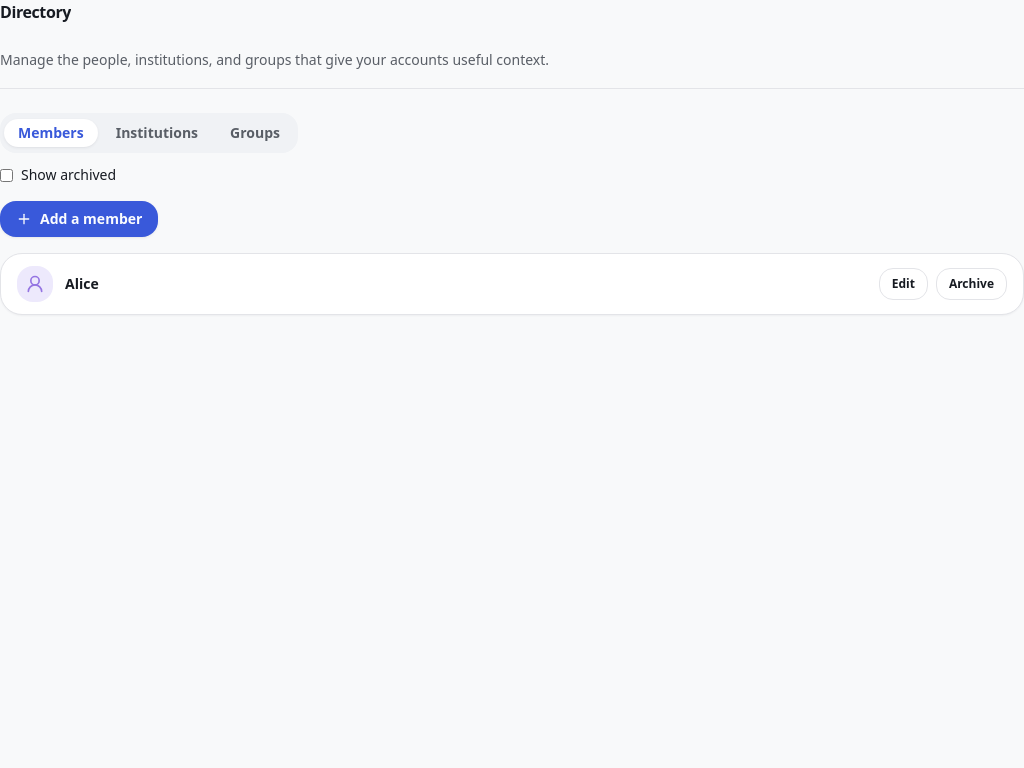
Test: DirectoryPage › focuses the default Name field in Groups and keeps Close keyboard accessible
Expected: the text "Alice" is shown, [65,274,99,294]
Click the tab "Groups" at coordinates (255, 133), box [216,119,294,147]
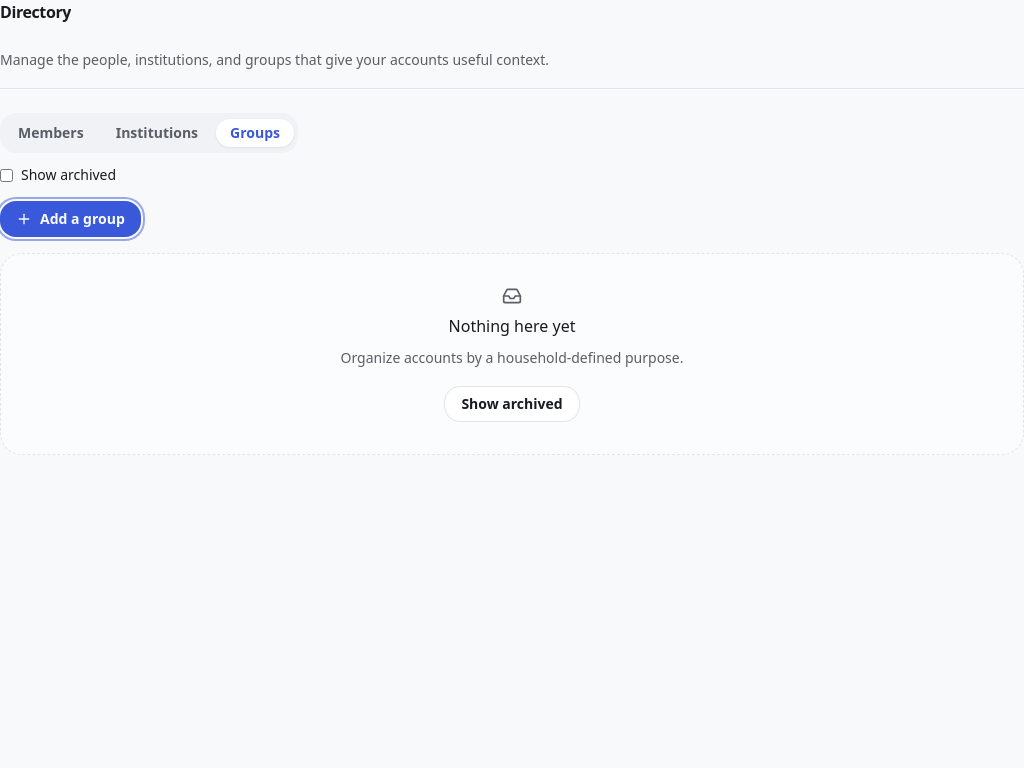
Press Enter
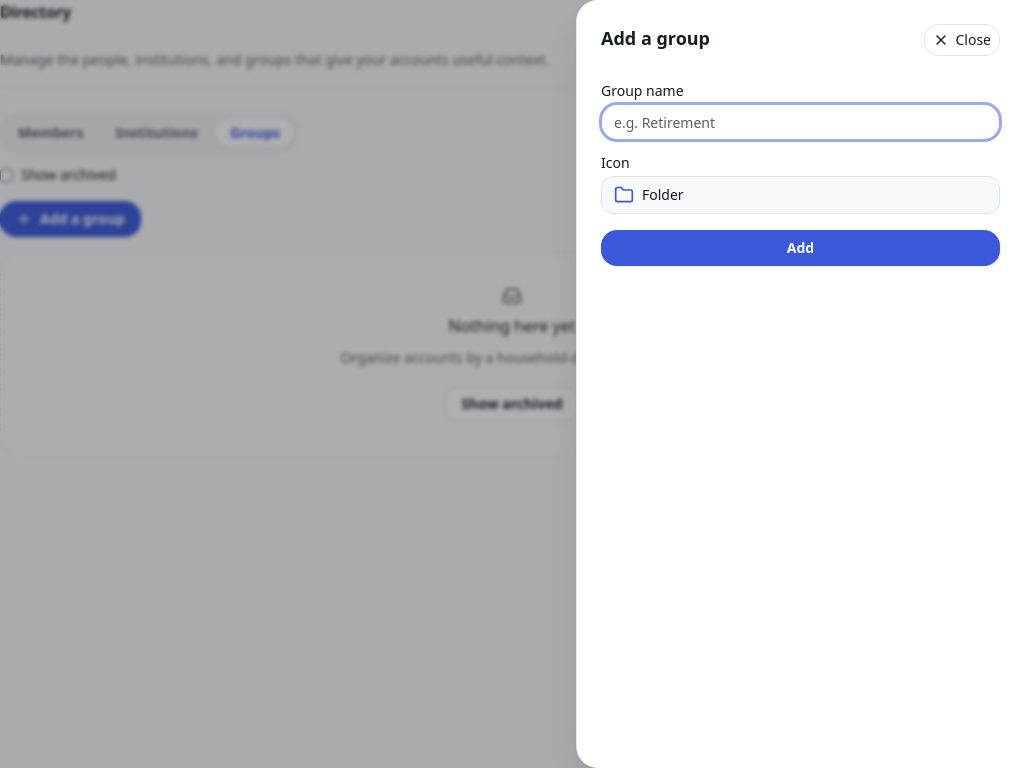
Type keys "Draft name"
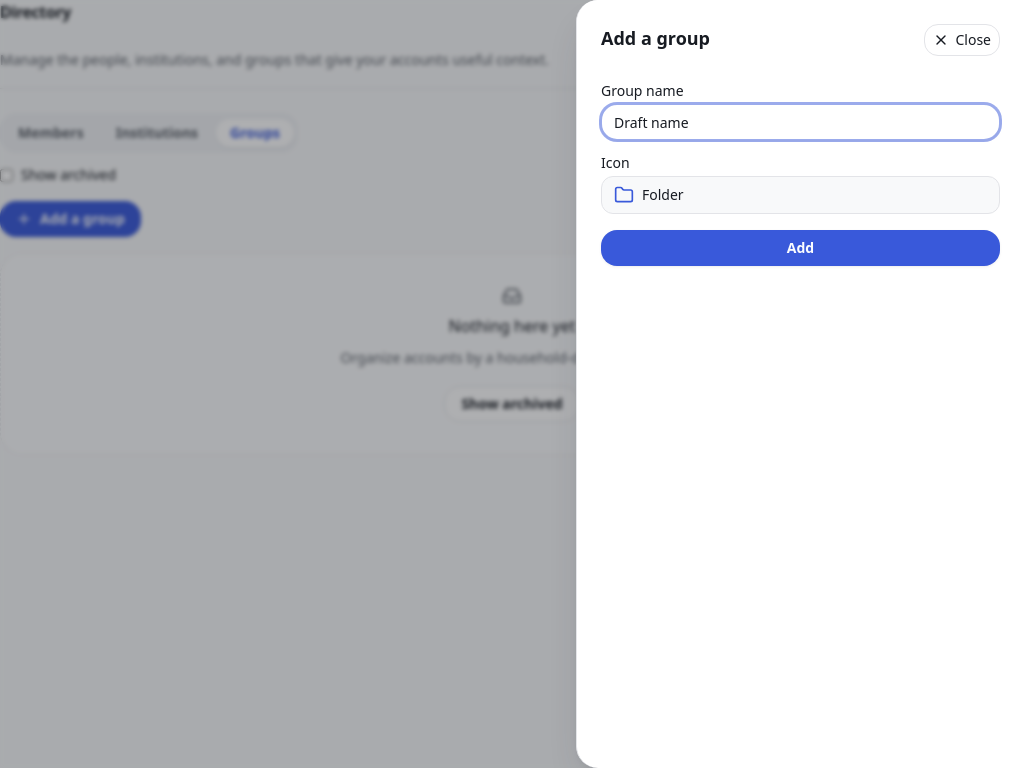
Now the field labelled "Group name" holds "Draft name", box [601,104,1000,140]
Press Shift+Tab
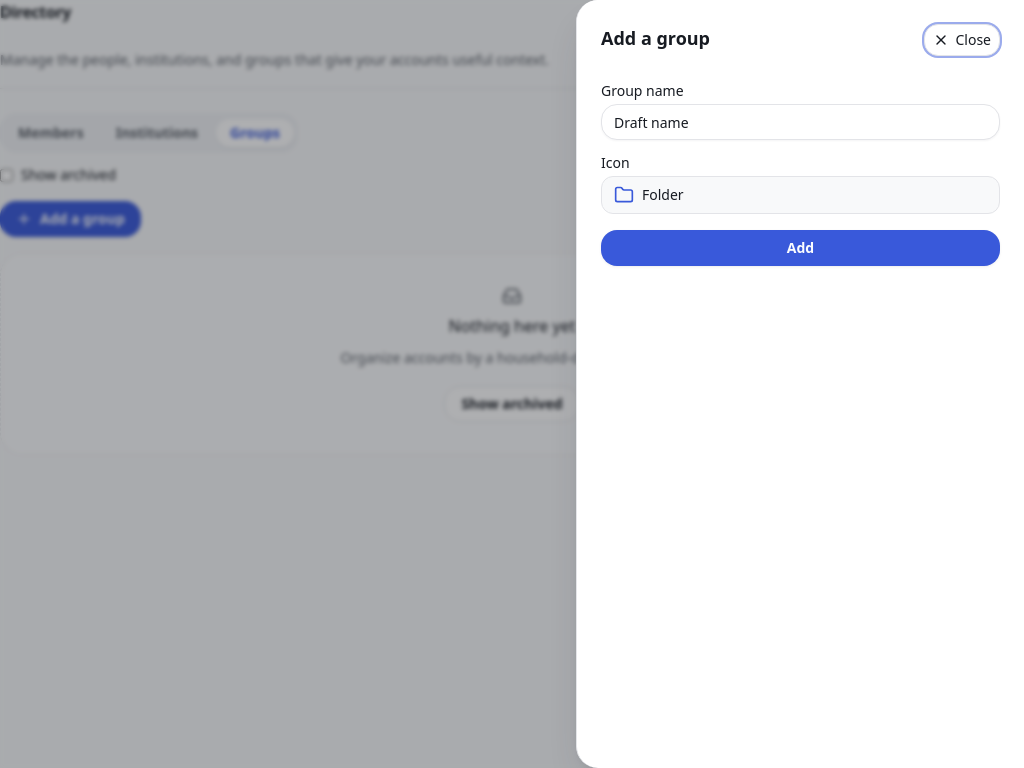
Type keys " "
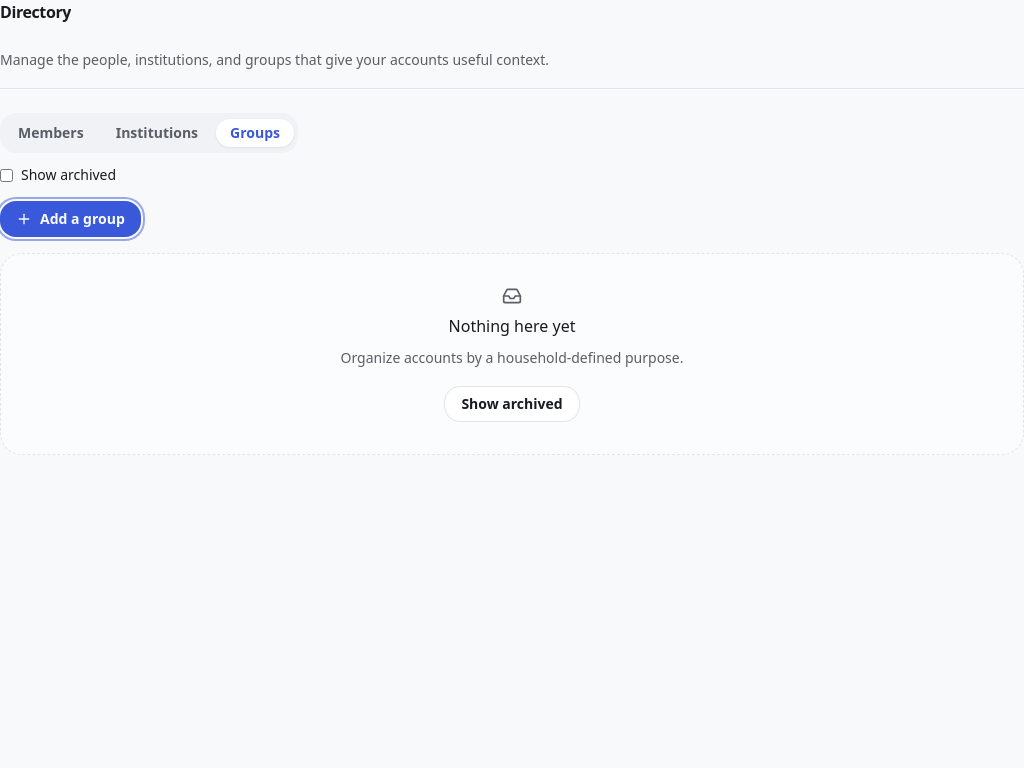
Now the dialog is gone
